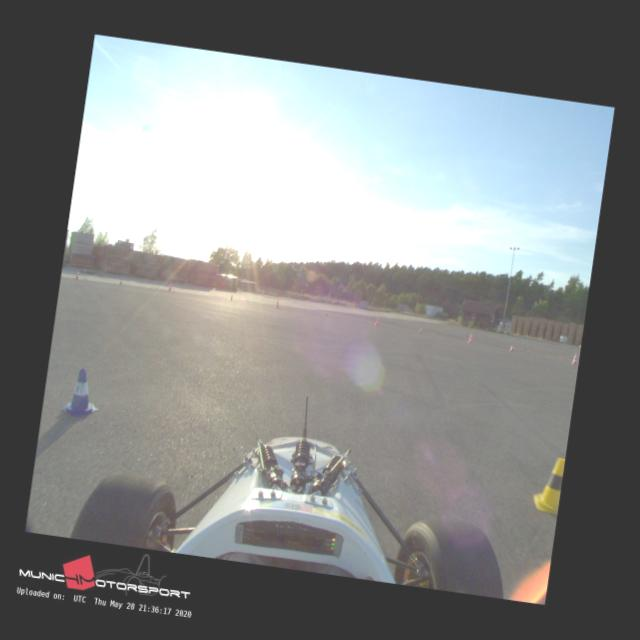blue_cone: (60, 366, 104, 420)
yellow_cone: (530, 454, 565, 516)
